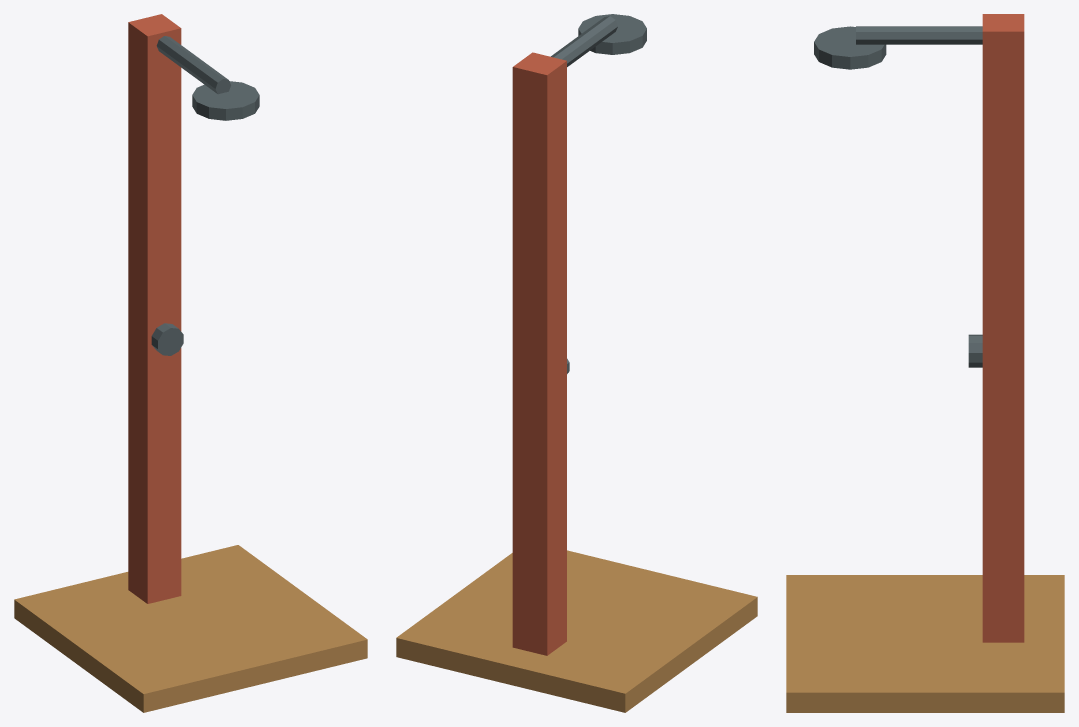
The model's file is outdoor_shower.glb.
The picture shows the model from 3 angles, left to right: view 1: azimuth 30°, elevation 25°; view 2: azimuth 150°, elevation 25°; view 3: azimuth 270°, elevation 25°; orthographic projection. The views are drawn at different scales.
Parts seen in each view (by area): view 1: outdoor_shower_pc; view 2: outdoor_shower_pc; view 3: outdoor_shower_pc.
Boxes of the visible parts, <box> form: outdoor_shower_pc: <box>14,14,367,712</box>; outdoor_shower_pc: <box>396,14,757,712</box>; outdoor_shower_pc: <box>786,14,1064,712</box>.
Size of the model in its own units: 1 by 2.5 by 1.
